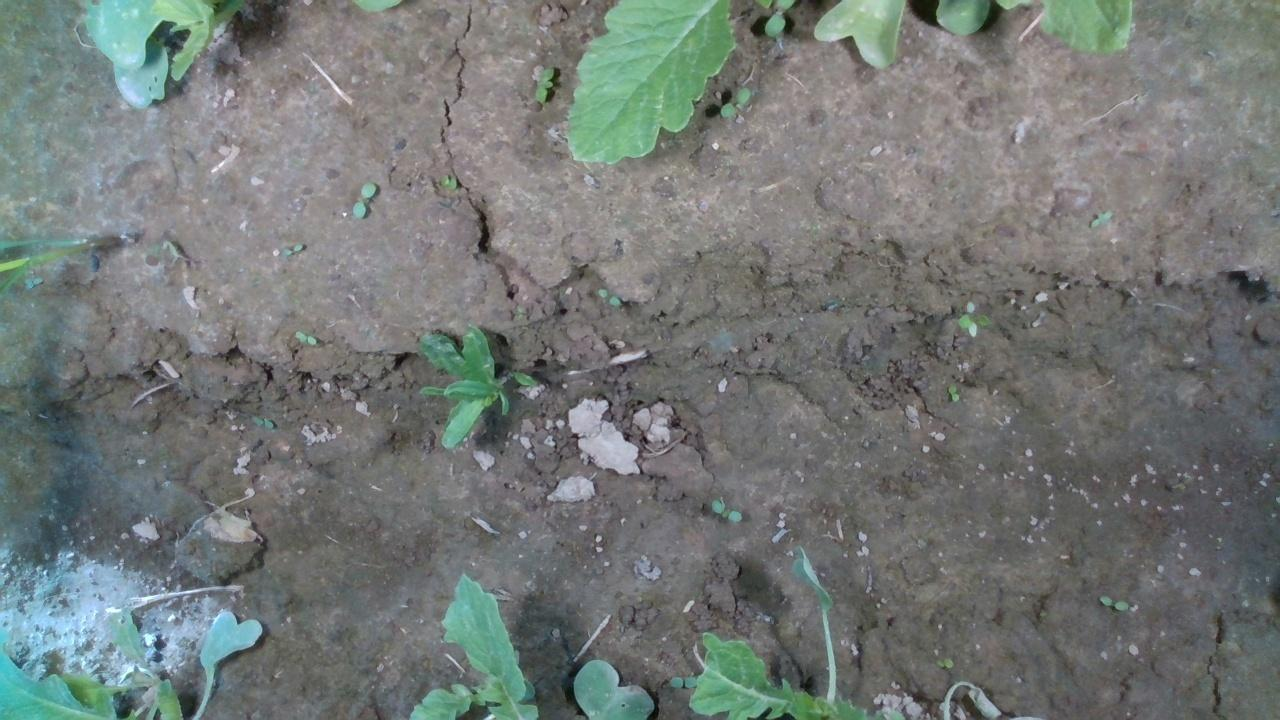weed: (955, 298, 992, 337), (716, 85, 750, 118), (349, 180, 376, 219), (533, 64, 555, 103), (709, 497, 742, 523), (1096, 592, 1131, 612), (247, 410, 273, 431), (597, 286, 621, 308), (1088, 206, 1112, 228), (291, 329, 317, 347), (436, 170, 457, 191), (280, 243, 305, 256), (934, 655, 954, 670), (946, 383, 960, 403)
